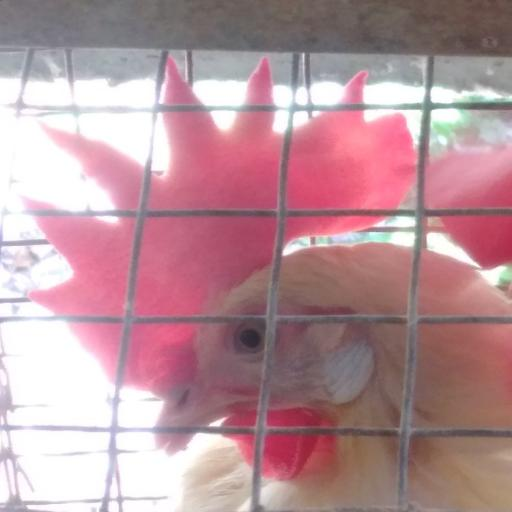healthy: (33, 82, 448, 482)
